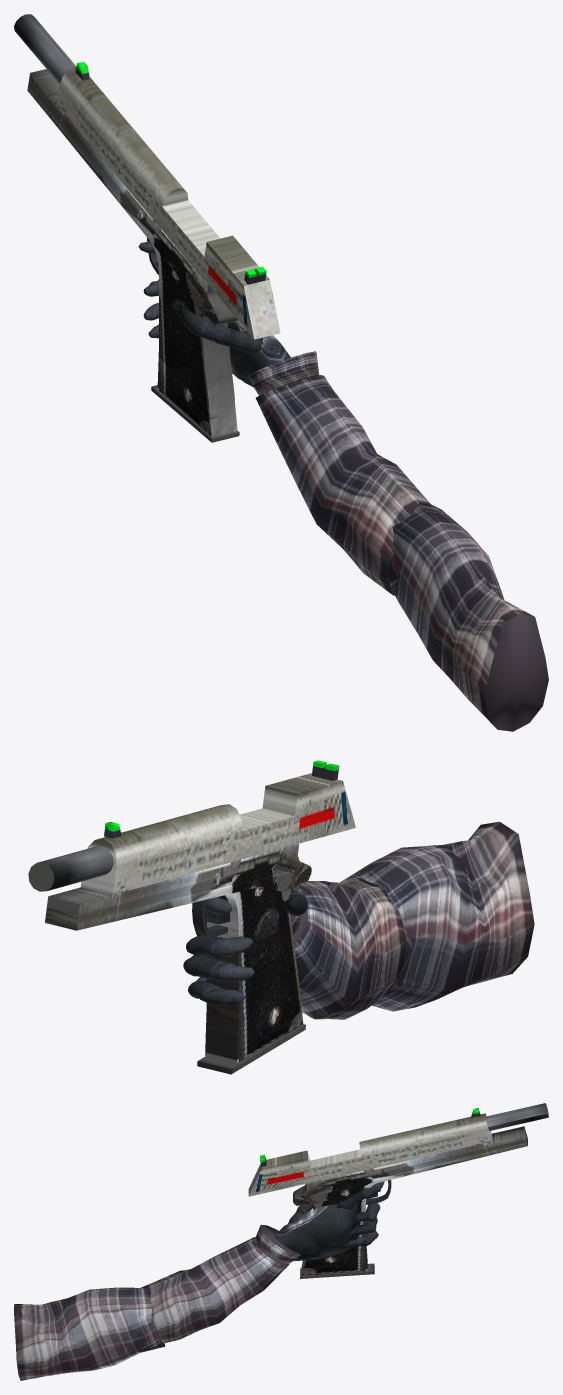
File: magnum24_ads_fire.fbx
The picture shows the model from 3 angles, top to bottom: view 1: azimuth 30°, elevation 25°; view 2: azimuth 150°, elevation 25°; view 3: azimuth 270°, elevation 25°; orthographic projection. The views are drawn at different scales.
Parts seen in each view (by area): view 1: rupperarm, rforearm, magnum_slide, magnum_body, magnum_barrel, rhand; view 2: rupperarm, magnum_body, magnum_slide, rforearm, magnum_barrel, magnum_clip, magnum_guard, rifingermiddle, rifingerfront, rmfingerfront, rmfingermiddle, rpinkyfront (+4 smaller); view 3: rupperarm, rforearm, magnum_slide, magnum_body, rhand, magnum_barrel, magnum_clip, rpfingerback.
Boxes of the visible parts, x1,y1,x2,y2 form: rupperarm: [391, 502, 548, 731]; rforearm: [247, 351, 431, 595]; magnum_slide: [56, 66, 280, 339]; magnum_body: [27, 69, 237, 437]; magnum_barrel: [14, 14, 75, 84]; rhand: [227, 320, 290, 387]; rupperarm: [340, 821, 534, 1011]; magnum_body: [45, 843, 311, 1063]; magnum_slide: [80, 773, 355, 894]; rforearm: [291, 878, 406, 1019]; magnum_barrel: [28, 846, 113, 891]; magnum_clip: [197, 1024, 305, 1074]; magnum_guard: [192, 900, 227, 937]; rifingermiddle: [183, 956, 225, 980]; rifingerfront: [208, 963, 254, 981]; rmfingerfront: [207, 936, 253, 956]; rmfingermiddle: [186, 935, 225, 957]; rpinkyfront: [198, 989, 245, 1004]; rupperarm: [14, 1287, 165, 1380]; rforearm: [141, 1225, 300, 1343]; magnum_slide: [248, 1113, 491, 1196]; magnum_body: [293, 1126, 527, 1275]; rhand: [274, 1204, 359, 1261]; magnum_barrel: [486, 1103, 548, 1130]; magnum_clip: [300, 1263, 374, 1278]; rpfingerback: [335, 1188, 366, 1214].
Bounding box in the file's own units: 5.81 × 18.39 × 34.59.
Materials: 3 (3 with a texture image).
